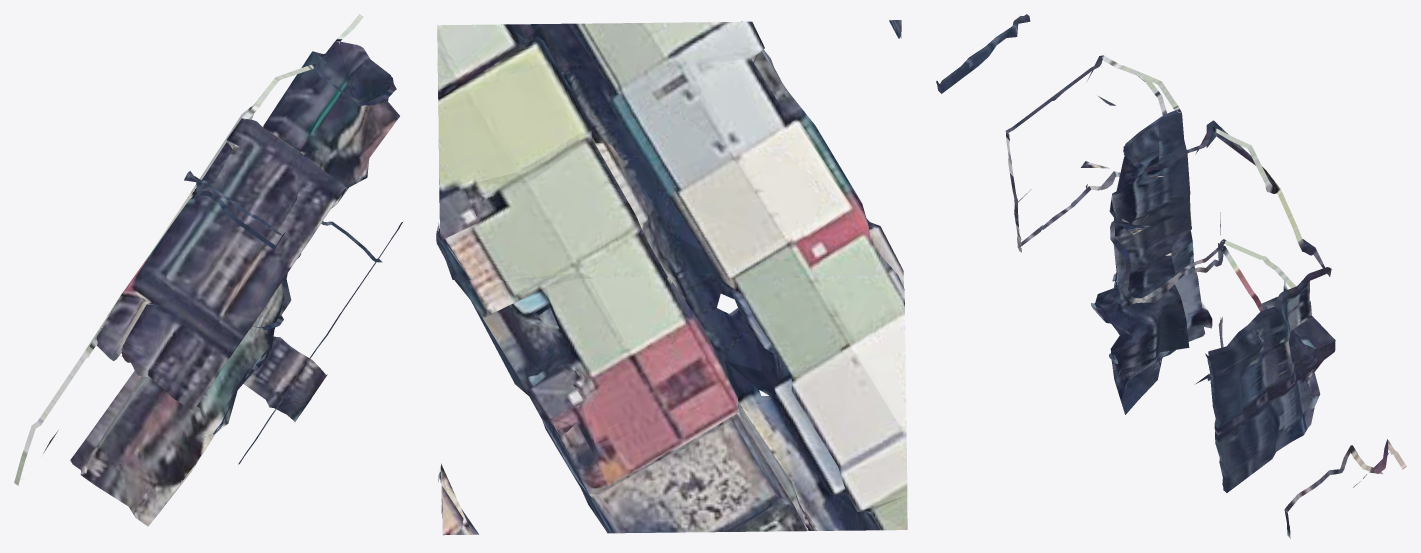
The picture shows the model from 3 angles, left to right: view 1: azimuth 30°, elevation 25°; view 2: azimuth 150°, elevation 25°; view 3: azimuth 270°, elevation 25°; orthographic projection. The views are drawn at different scales.
Size of the model in its own units: 40.06 by 39.92 by 40.87.
2 materials, 2 textured.
